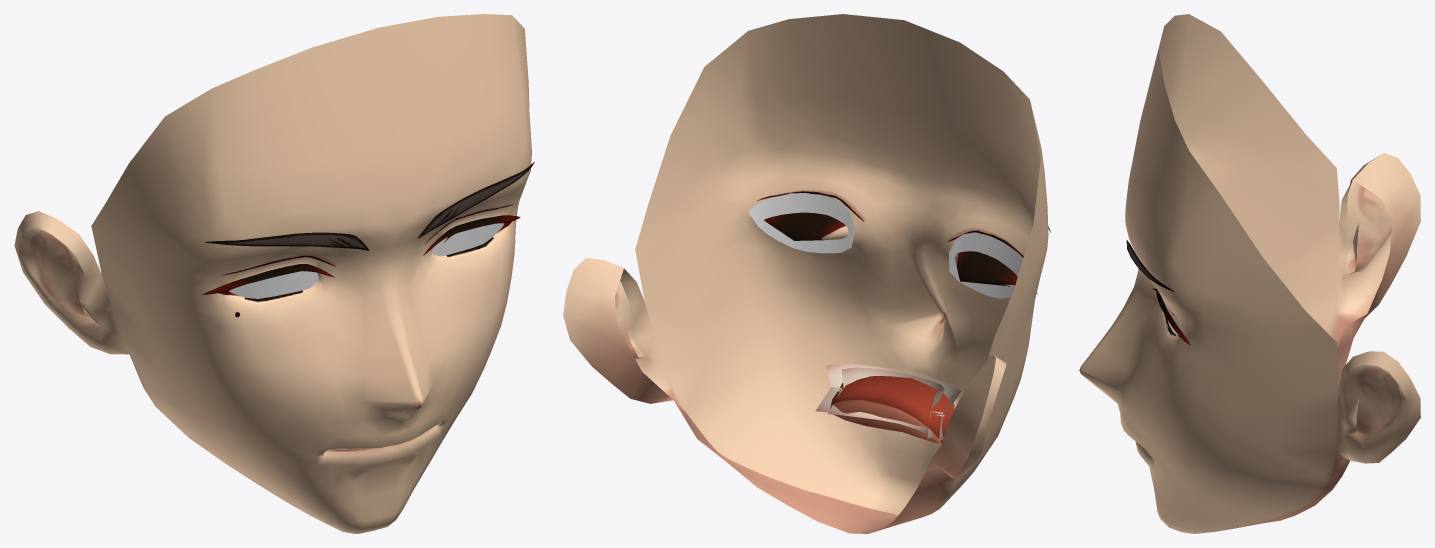
File: Jin.fbx
The picture shows the model from 3 angles, left to right: view 1: azimuth 30°, elevation 25°; view 2: azimuth 150°, elevation 25°; view 3: azimuth 270°, elevation 25°; orthographic projection. The views are drawn at different scales.
Parts seen in each view (by area): view 1: M_Head, M_Eye_B_Def, M_Mth_B_Def, M_Brw_B_Def, M_PupALL_R_A_Def, M_PupALL_L_A_Def; view 2: M_Head, M_Eye_B_Def, M_Mth_B_Def, M_PupALL_L_A_Def, M_PupALL_R_A_Def; view 3: M_Head, M_Eye_B_Def, M_Mth_B_Def.
Part boxes in pixels (box(x1,y1,x2,y2)): M_Head: box(14, 14, 530, 395); M_Eye_B_Def: box(145, 135, 531, 409); M_Mth_B_Def: box(129, 353, 490, 533); M_Brw_B_Def: box(205, 162, 534, 250); M_PupALL_R_A_Def: box(229, 271, 318, 298); M_PupALL_L_A_Def: box(432, 223, 504, 256); M_Head: box(563, 14, 1047, 478); M_Eye_B_Def: box(686, 130, 1048, 414); M_Mth_B_Def: box(671, 317, 1012, 533); M_PupALL_L_A_Def: box(748, 193, 855, 253); M_PupALL_R_A_Def: box(949, 232, 1022, 298); M_Head: box(1127, 14, 1420, 463); M_Eye_B_Def: box(1079, 115, 1246, 449); M_Mth_B_Def: box(1081, 312, 1366, 533).
Size of the model in its own units: 0.1645 by 0.177 by 0.1146.
Materials: 5 (3 with a texture image).
